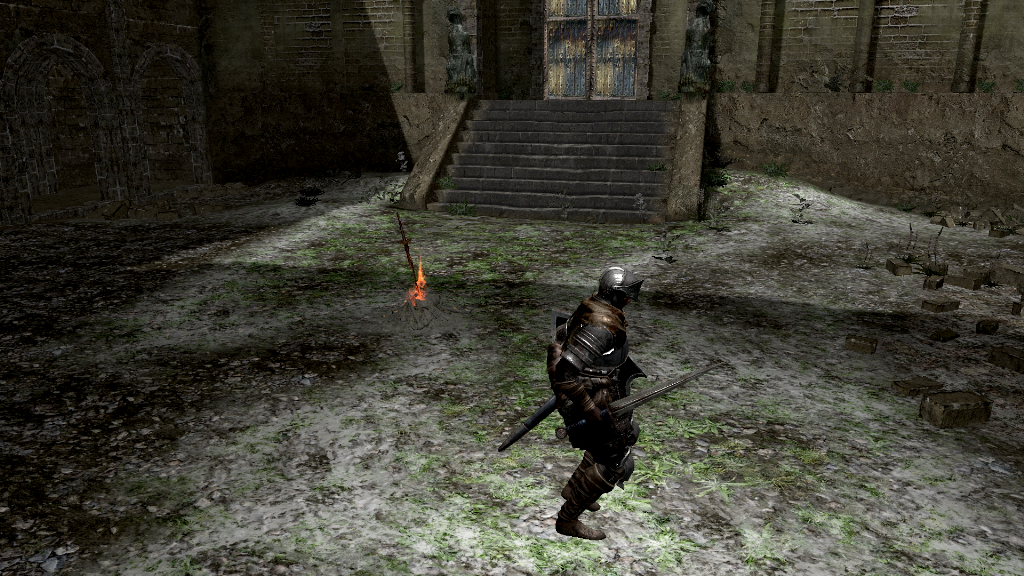bonfire: (387, 210, 444, 313)
player: (496, 261, 732, 541)
